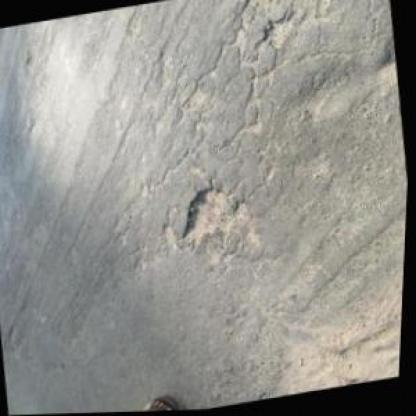pothole: (175, 181, 251, 254), (259, 14, 297, 54)
